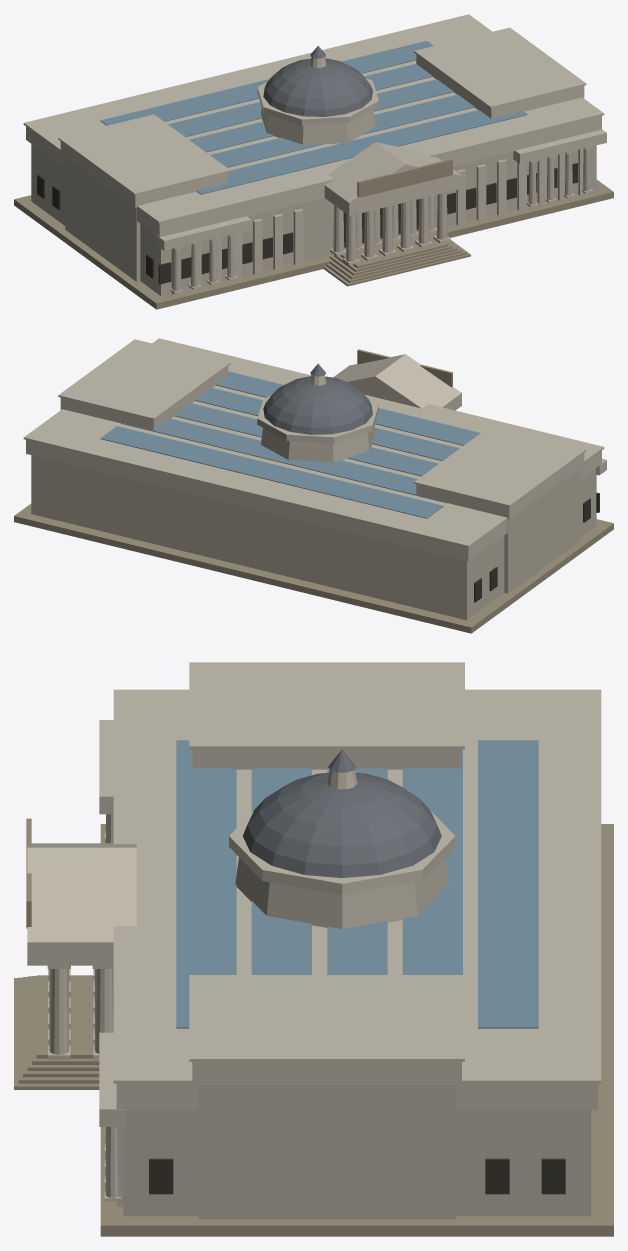
The model's file is tate_britain.glb.
3 renders of one model, top to bottom at view 1: azimuth 30°, elevation 25°; view 2: azimuth 150°, elevation 25°; view 3: azimuth 270°, elevation 25°, orthographic. The views are drawn at different scales.
Visible parts, largest first — view 1: tate_britain; view 2: tate_britain; view 3: tate_britain.
Part boxes in pixels (x1,y1,x2,y2): tate_britain: [14, 14, 613, 309]; tate_britain: [14, 338, 613, 633]; tate_britain: [14, 662, 613, 1236].
Bounding box in the file's own units: 126 × 41.9 × 79.5.
